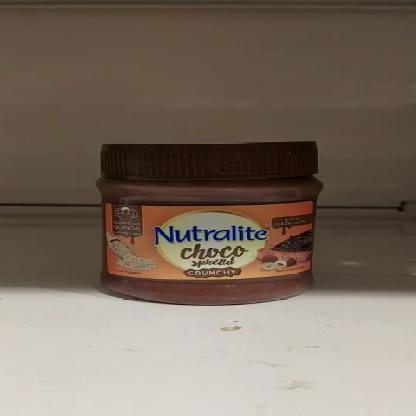Nutralite CHOCO SPREAD CALCIUM 275g: (99, 143, 317, 307)
